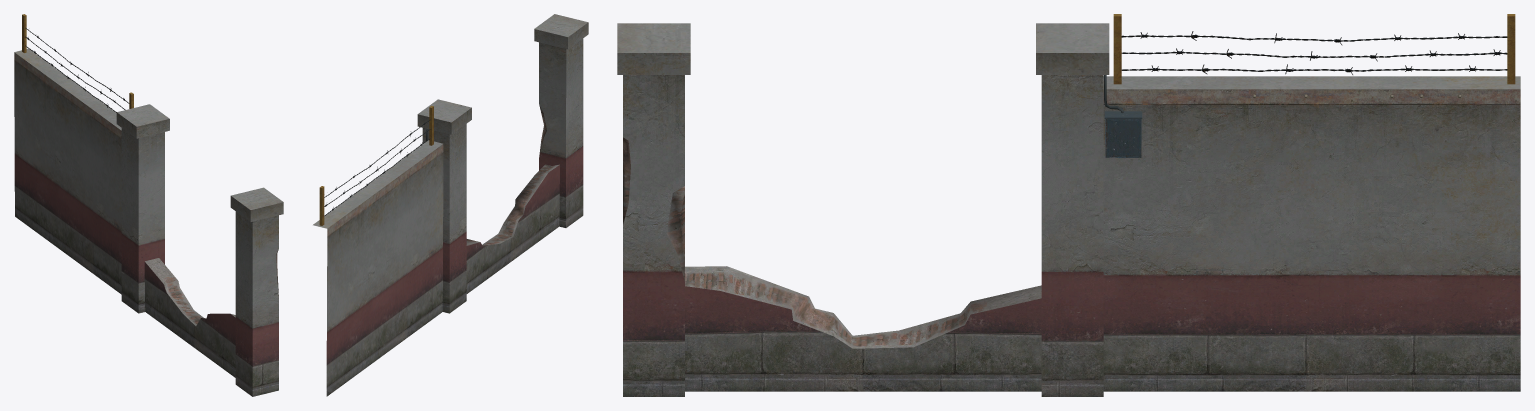
Rendered from Cover_Jz0013e.glb.
3 views of the same model, side by side, from view 1: azimuth 30°, elevation 25°; view 2: azimuth 150°, elevation 25°; view 3: azimuth 270°, elevation 25° (orthographic). The views are drawn at different scales.
Parts seen in each view (by area): view 1: xiutz_jz0013e; view 2: xiutz_jz0013e; view 3: xiutz_jz0013e.
Part boxes in pixels (<box>): xiutz_jz0013e: <box>14,14,283,396</box>; xiutz_jz0013e: <box>313,14,588,396</box>; xiutz_jz0013e: <box>617,14,1520,396</box>.
Bounding box in the file's own units: 0.74 × 4.3 × 9.51.
Materials: 1 (1 with a texture image).
